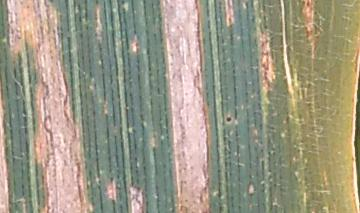tarspot: (223, 114, 233, 124)
